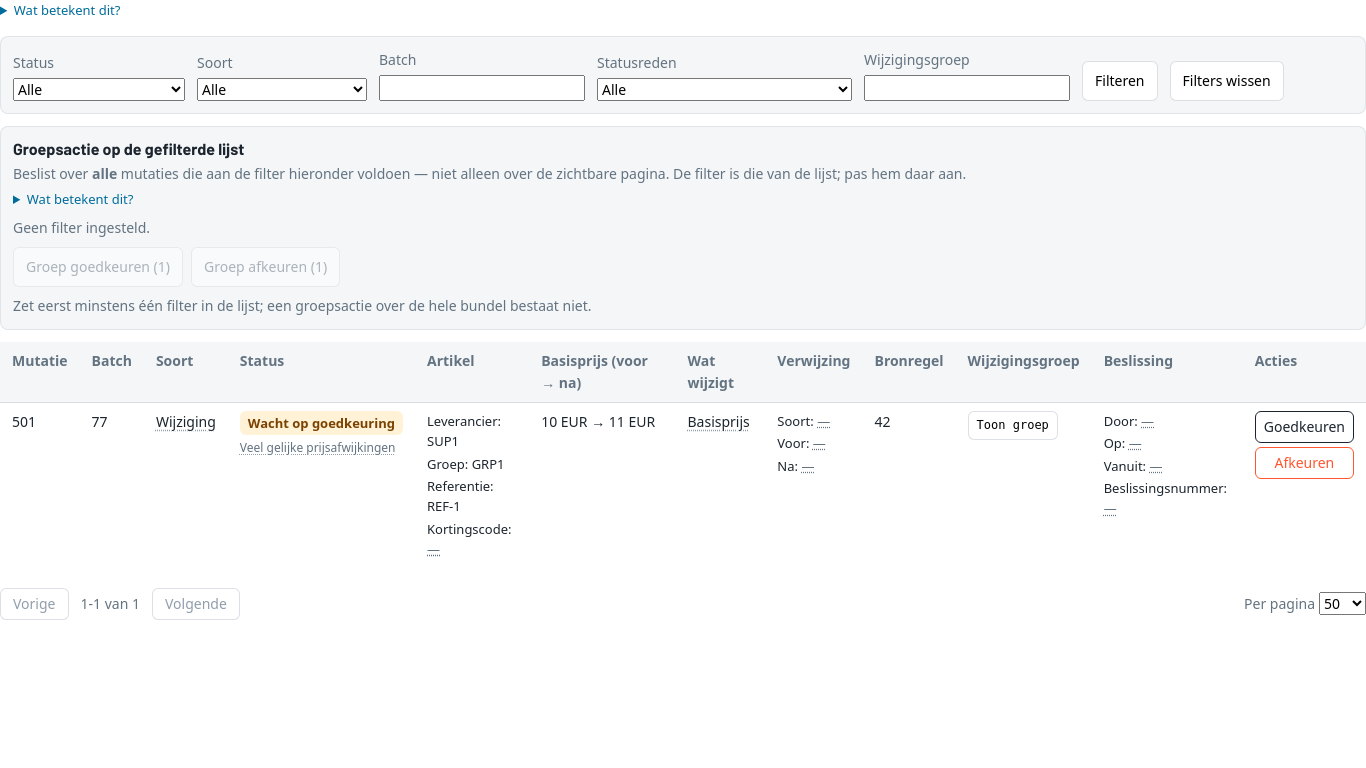
Test case: BundleMutationsTab › F8.8: goedkeuren stuurt decidedBy en reden mee en meldt een idempotente herhaling
Click the button with aria-label "Goedkeuren mutatie 501".
click(1304, 427)  # box [1255,411,1354,443]
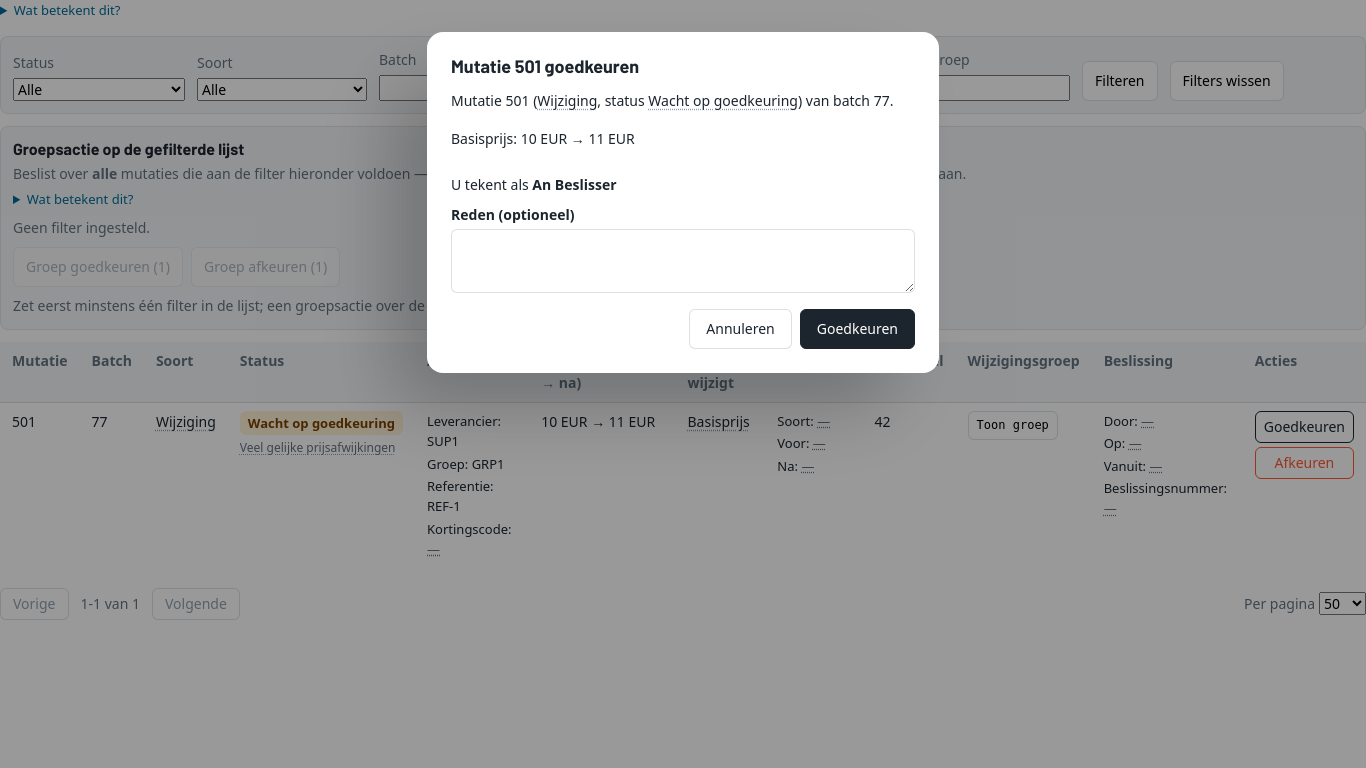
Note: Goedkeuren zonder herziening: reden optioneel, bevestigen mag meteen.
Click the button "Goedkeuren".
click(857, 330)  # box [800,310,915,350]
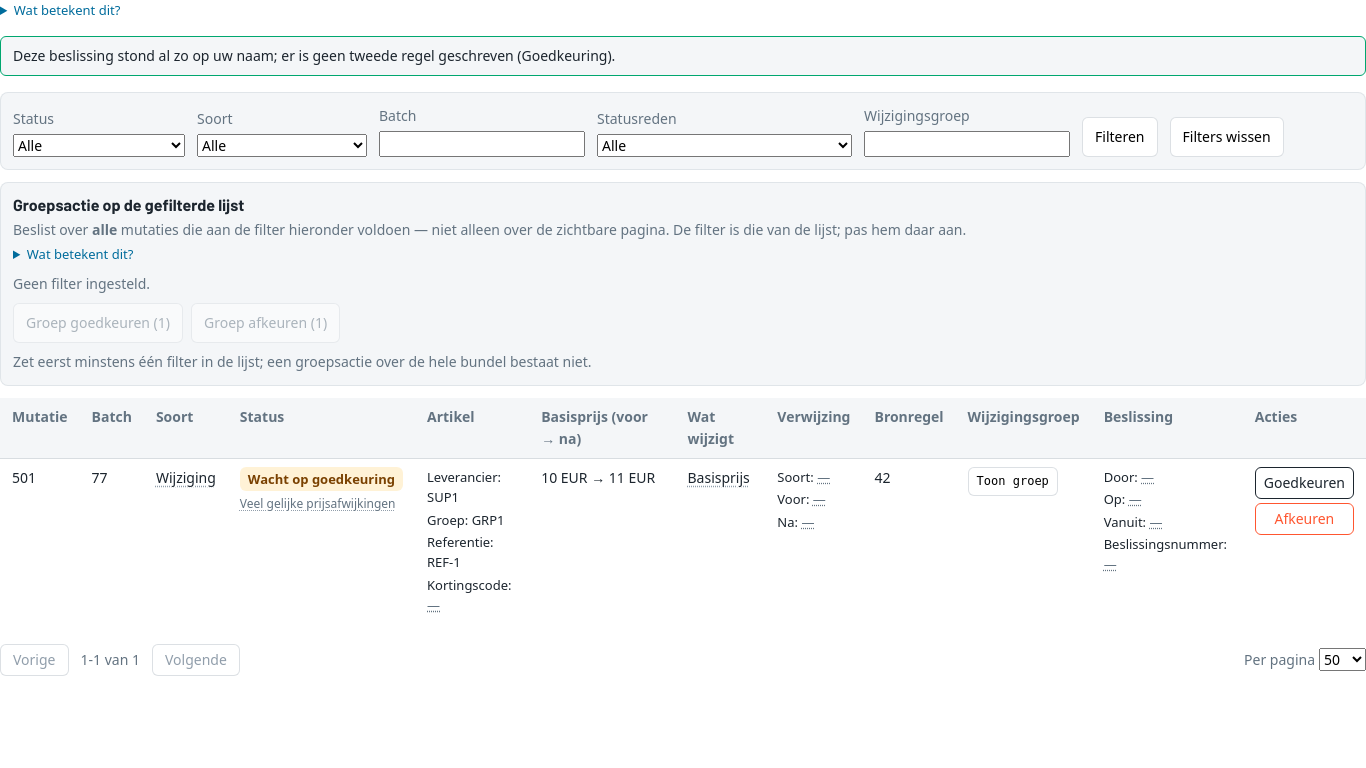
Expected: the message shows "geen tweede regel geschreven", [13,46,615,65]
